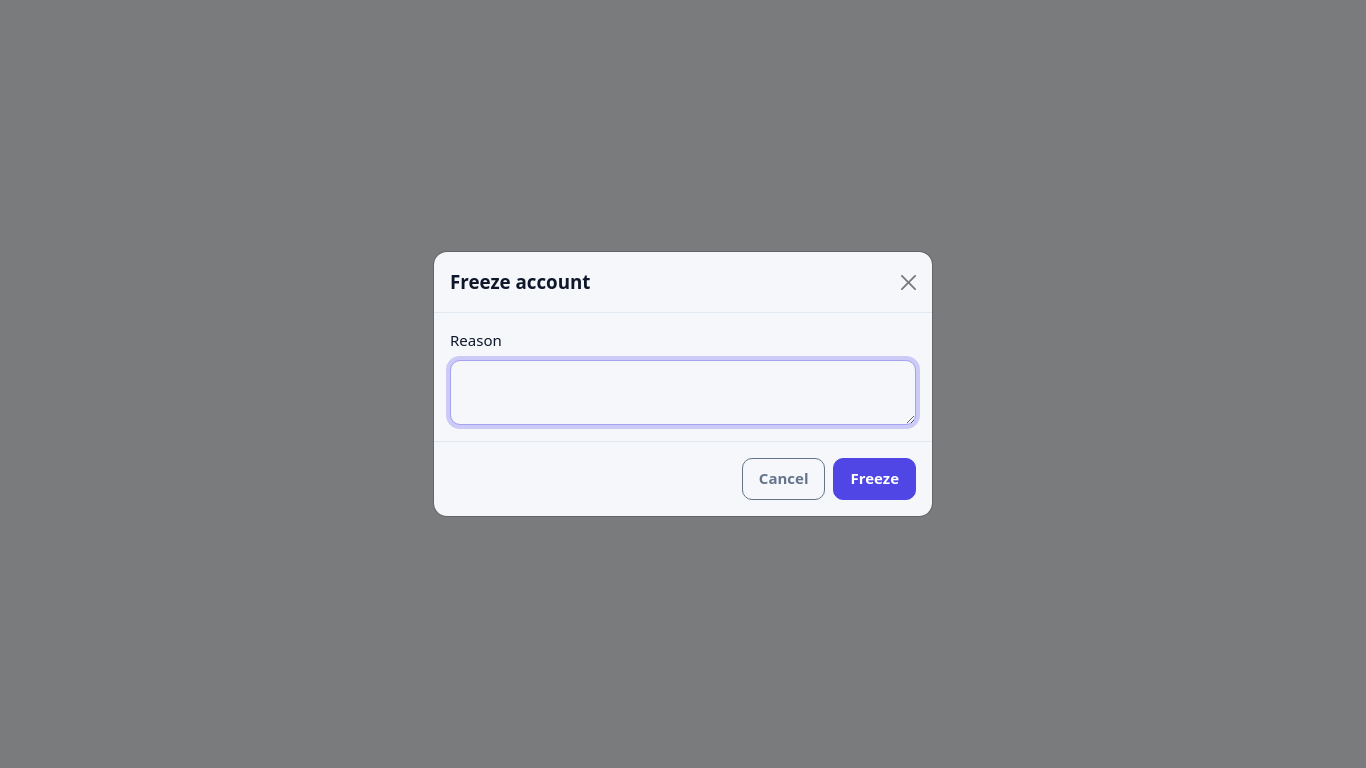
Test: ReasonDialog › requires a reason before confirming, then passes it on trimmed
Later steps or results of the test are not shown.
Click the button "Freeze" at (875, 479), box [834,458,916,500]
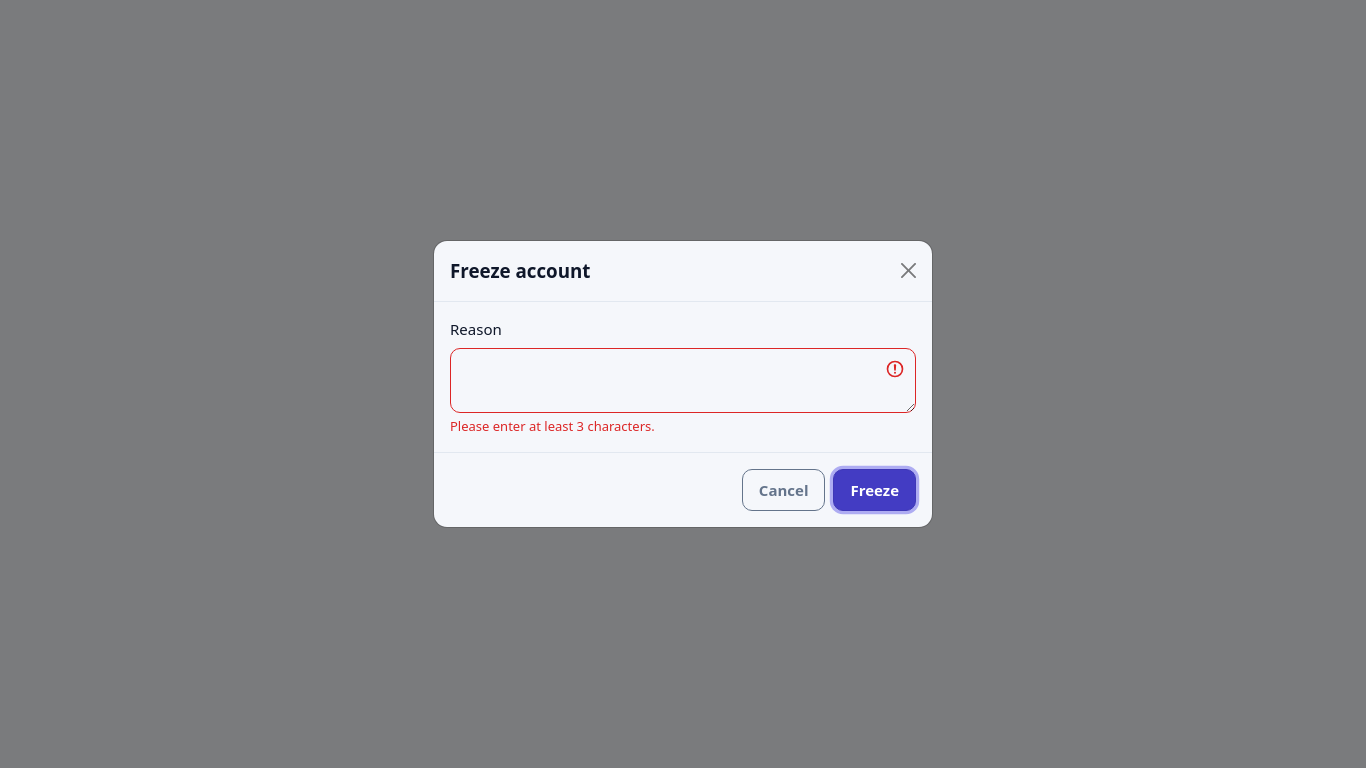
Now the text "Please enter at least 3 characters." is shown, box [450,417,655,435]
